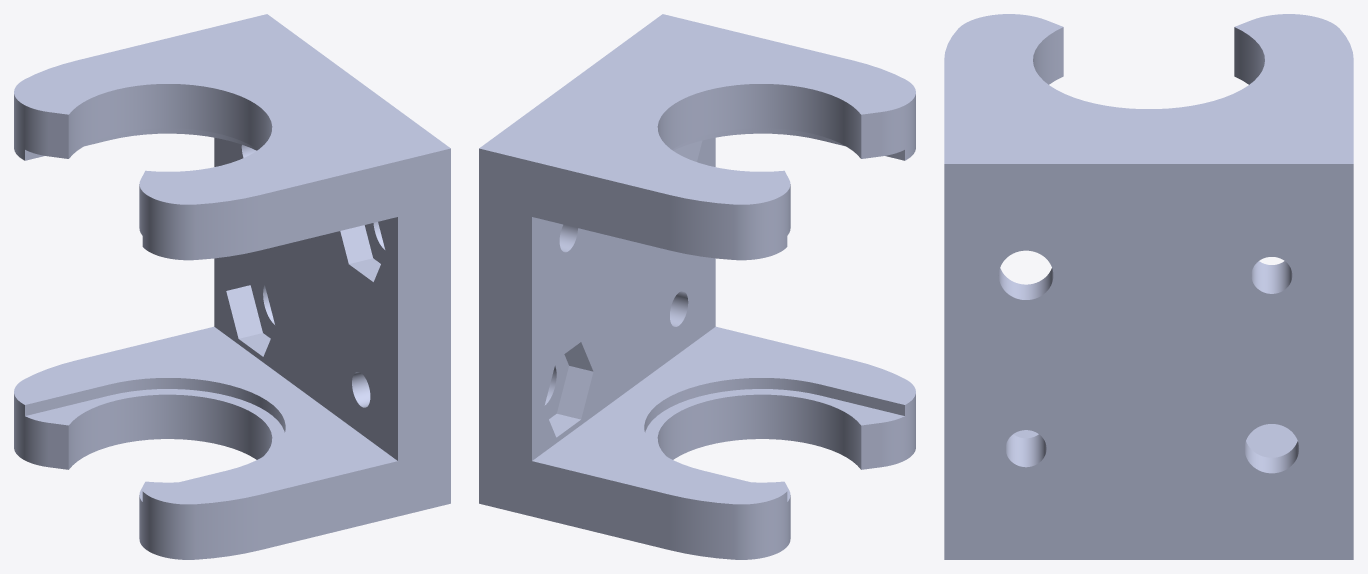
File: FingerBase.obj
The picture shows the model from 3 angles, left to right: view 1: azimuth 30°, elevation 25°; view 2: azimuth 150°, elevation 25°; view 3: azimuth 270°, elevation 25°; orthographic projection. The views are drawn at different scales.
Parts seen in each view (by area): view 1: mesh12, mesh35, mesh40, mesh18, mesh39, mesh27, mesh13, mesh14, mesh34, mesh22, mesh25, mesh20 (+9 smaller); view 2: mesh15, mesh35, mesh40, mesh18, mesh39, mesh27, mesh16, mesh17, mesh33, mesh23, mesh25, mesh20 (+8 smaller); view 3: mesh8, mesh35, mesh39, mesh18, mesh10, mesh9, mesh11, mesh0.
Part boxes in pixels (x1,y1,x2,y2): mesh12: [260, 148, 450, 549]; mesh35: [14, 14, 450, 204]; mesh40: [214, 137, 397, 460]; mesh18: [14, 326, 397, 504]; mesh39: [68, 84, 272, 158]; mesh27: [68, 394, 272, 469]; mesh13: [196, 495, 259, 559]; mesh14: [196, 195, 259, 259]; mesh34: [139, 184, 195, 260]; mesh22: [139, 491, 195, 559]; mesh25: [25, 389, 284, 501]; mesh20: [109, 378, 285, 432]; mesh15: [479, 148, 669, 549]; mesh35: [479, 14, 915, 204]; mesh40: [532, 137, 715, 460]; mesh18: [532, 326, 915, 504]; mesh39: [657, 84, 861, 158]; mesh27: [657, 394, 861, 469]; mesh16: [670, 495, 733, 559]; mesh17: [670, 195, 733, 259]; mesh33: [734, 184, 790, 260]; mesh23: [734, 491, 790, 559]; mesh25: [645, 389, 904, 501]; mesh20: [644, 378, 820, 432]; mesh8: [944, 164, 1353, 559]; mesh35: [944, 14, 1353, 163]; mesh39: [1033, 27, 1264, 84]; mesh18: [1013, 424, 1297, 457]; mesh10: [1005, 434, 1046, 467]; mesh9: [1251, 261, 1292, 293]; mesh11: [1244, 441, 1299, 473]; mesh0: [998, 268, 1053, 299].
Size of the model in its own units: 0.026 by 0.032 by 0.03.
